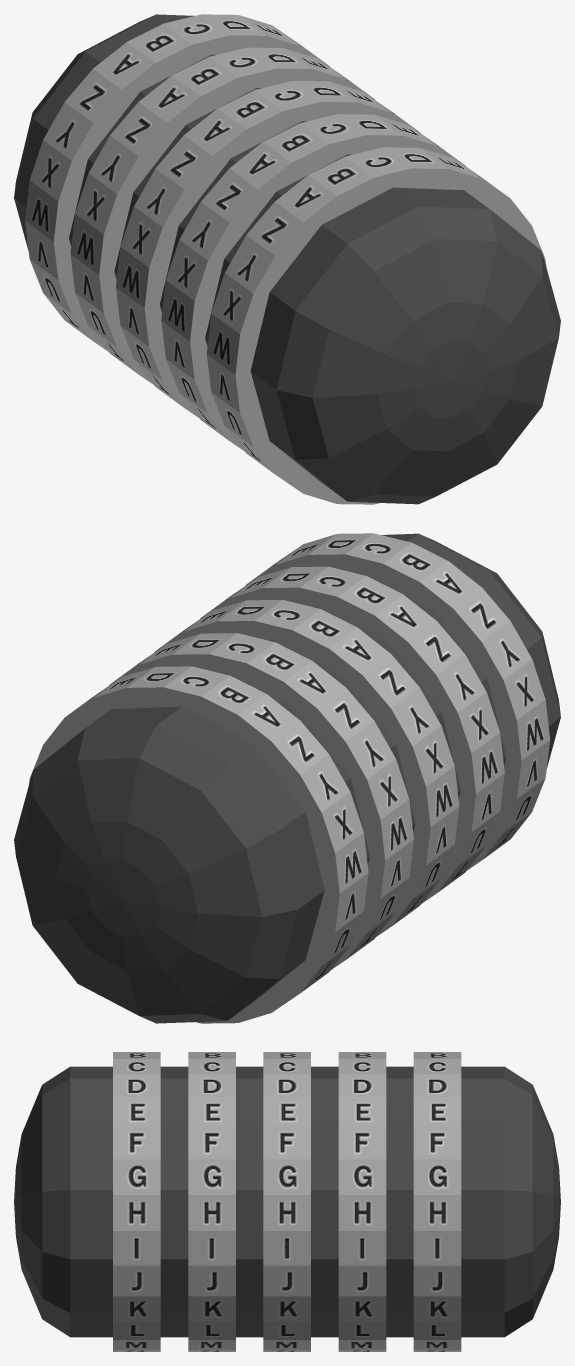
Rendered from obj_criptext (1).FBX.
The picture shows the model from 3 angles, top to bottom: view 1: azimuth 30°, elevation 25°; view 2: azimuth 150°, elevation 25°; view 3: azimuth 270°, elevation 25°; orthographic projection. The views are drawn at different scales.
Visible parts, largest first — view 1: obj_criptext_base, obj_criptext_ring_1_of_5, obj_criptext_ring_2_of_5, obj_criptext_ring_5_of_5, obj_criptext_ring_4_of_5, obj_criptext_ring_3_of_5; view 2: obj_criptext_base, obj_criptext_ring_5_of_5, obj_criptext_ring_4_of_5, obj_criptext_ring_2_of_5, obj_criptext_ring_1_of_5, obj_criptext_ring_3_of_5; view 3: obj_criptext_base, obj_criptext_ring_4_of_5, obj_criptext_ring_5_of_5, obj_criptext_ring_1_of_5, obj_criptext_ring_2_of_5, obj_criptext_ring_3_of_5.
Boxes of the visible parts, x1,y1,x2,y2 form: obj_criptext_base: (14,14,560,504); obj_criptext_ring_1_of_5: (206,147,546,504); obj_criptext_ring_2_of_5: (161,114,465,450); obj_criptext_ring_5_of_5: (25,14,329,350); obj_criptext_ring_4_of_5: (70,47,374,384); obj_criptext_ring_3_of_5: (116,81,420,417); obj_criptext_base: (14,533,560,1023); obj_criptext_ring_5_of_5: (29,666,368,1023); obj_criptext_ring_4_of_5: (109,633,413,970); obj_criptext_ring_2_of_5: (200,566,504,903); obj_criptext_ring_1_of_5: (245,533,550,870); obj_criptext_ring_3_of_5: (154,600,459,936); obj_criptext_base: (14,1066,560,1337); obj_criptext_ring_4_of_5: (338,1052,386,1351); obj_criptext_ring_5_of_5: (413,1052,461,1351); obj_criptext_ring_1_of_5: (113,1052,160,1351); obj_criptext_ring_2_of_5: (188,1052,235,1351); obj_criptext_ring_3_of_5: (263,1052,310,1351).
Size of the model in its own units: 59.49 by 59.06 by 108.
1 material, 1 textured.
